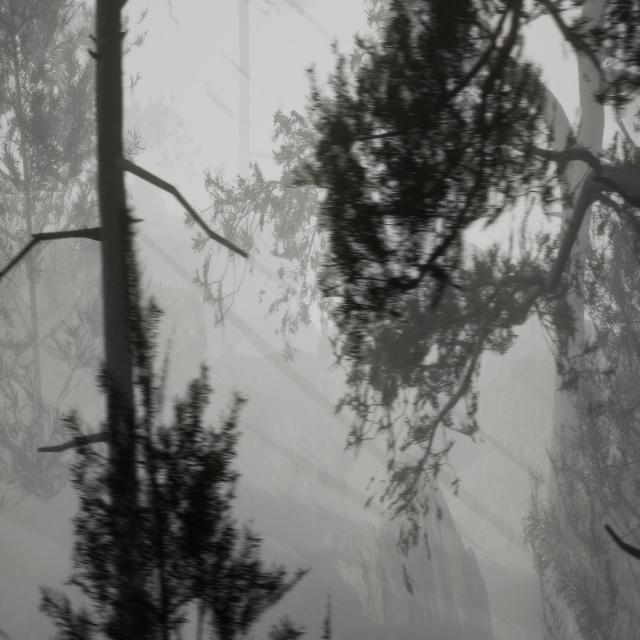Human: (313, 311, 340, 379)
